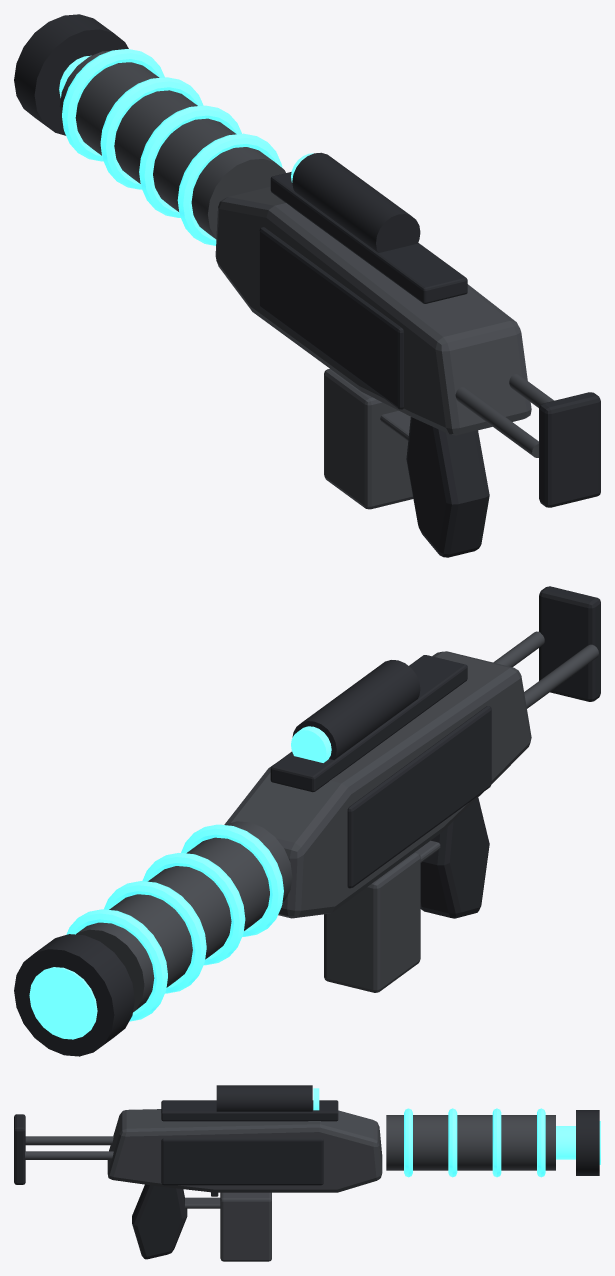
The model's file is wunder.glb.
3 renders of one model, top to bottom at view 1: azimuth 30°, elevation 25°; view 2: azimuth 150°, elevation 25°; view 3: azimuth 270°, elevation 25°, orthographic. The views are drawn at different scales.
Parts seen in each view (by area): view 1: Body, BarrelShroud, SidePanelL, PistolGrip, CellBody, ButtPlate, Scope, MuzzleRing, TopRail, Coil1, Coil0, Coil3 (+2 smaller); view 2: Body, BarrelShroud, SidePanelL, CellBody, MuzzleRing, PistolGrip, Scope, ButtPlate, TopRail, MuzzleGlow, Coil2, Coil0 (+5 smaller); view 3: Body, SidePanelR, BarrelShroud, CellBody, PistolGrip, TopRail, Scope, MuzzleRing, StockRailL, ButtPlate, StockRailR, Core (+5 smaller).
Part boxes in pixels (x1,y1,x2,y2): Body: (215, 186, 531, 435); BarrelShroud: (59, 51, 285, 238); SidePanelL: (259, 227, 403, 409); PistolGrip: (406, 417, 489, 557); CellBody: (324, 369, 413, 509); ButtPlate: (539, 392, 600, 507); Scope: (292, 152, 420, 252); MuzzleRing: (14, 14, 128, 135); TopRail: (270, 172, 467, 303); Coil1: (139, 105, 241, 217); Coil0: (177, 133, 282, 245); Coil3: (62, 49, 164, 161); Body: (224, 651, 531, 918); BarrelShroud: (76, 821, 292, 1012); SidePanelL: (347, 706, 491, 888); CellBody: (324, 852, 420, 992); MuzzleRing: (14, 934, 134, 1056); PistolGrip: (420, 797, 489, 918); Scope: (292, 660, 420, 759); ButtPlate: (539, 586, 600, 701); TopRail: (270, 655, 467, 792); MuzzleGlow: (29, 967, 97, 1039); Coil2: (104, 881, 206, 993); Coil0: (181, 824, 283, 936); Body: (107, 1109, 382, 1192); SidePanelR: (161, 1138, 323, 1185); BarrelShroud: (386, 1115, 555, 1170); CellBody: (220, 1192, 271, 1261); PistolGrip: (132, 1184, 187, 1259); TopRail: (161, 1100, 338, 1121); Scope: (216, 1085, 312, 1111); MuzzleRing: (576, 1110, 599, 1175); StockRailL: (25, 1136, 113, 1145); ButtPlate: (14, 1114, 25, 1184); StockRailR: (25, 1151, 113, 1159); Core: (556, 1126, 575, 1159).
Size of the model in its own units: 0.094 by 0.2523 by 0.796.
